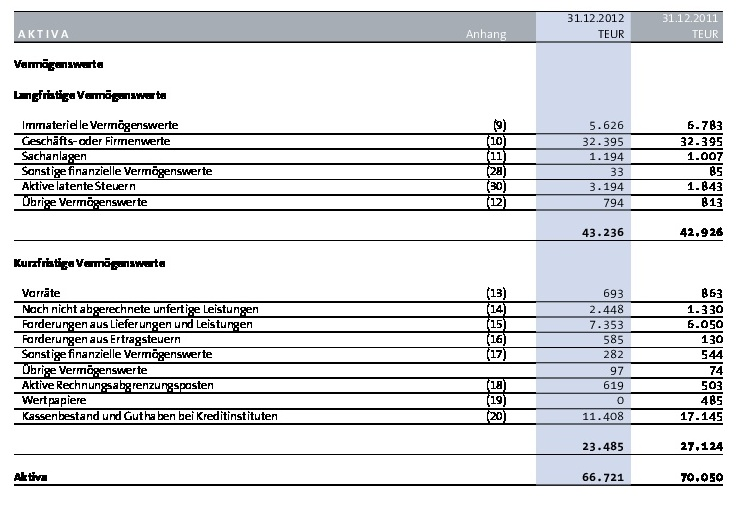table: (0, 0, 746, 506)
